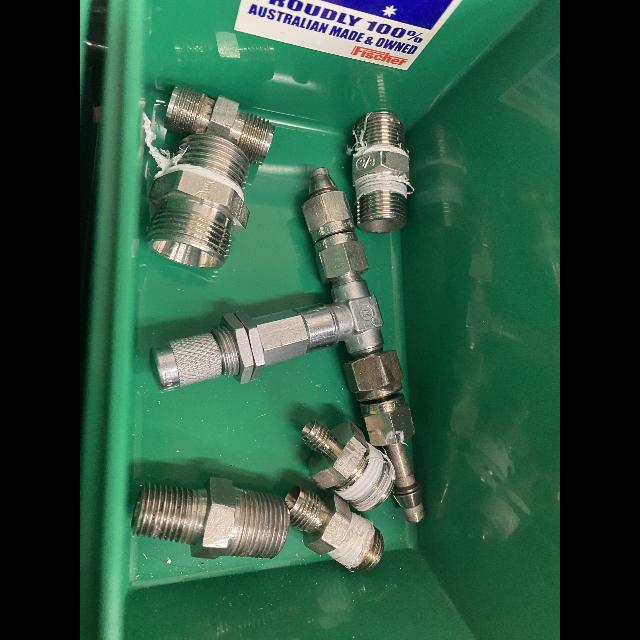Stainless Steel: (151, 168, 424, 522), (148, 134, 249, 269), (133, 478, 289, 558), (165, 87, 274, 164), (302, 421, 394, 510), (286, 487, 383, 570), (352, 113, 408, 232)
